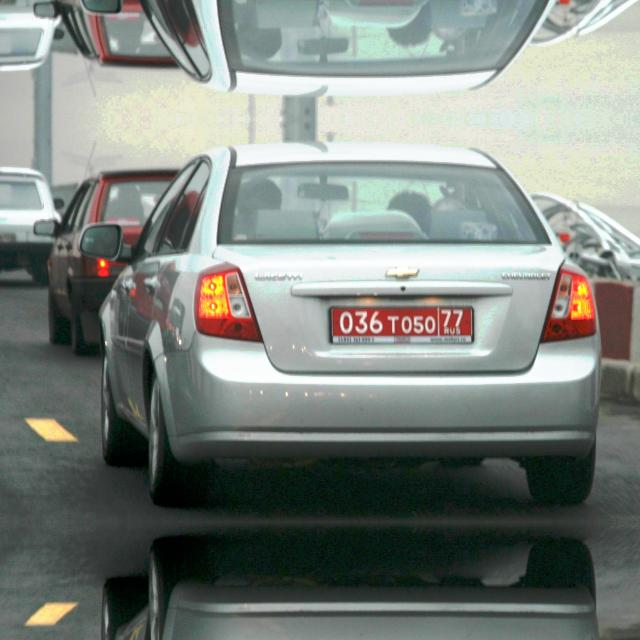diplomatic: (322, 300, 478, 350)
